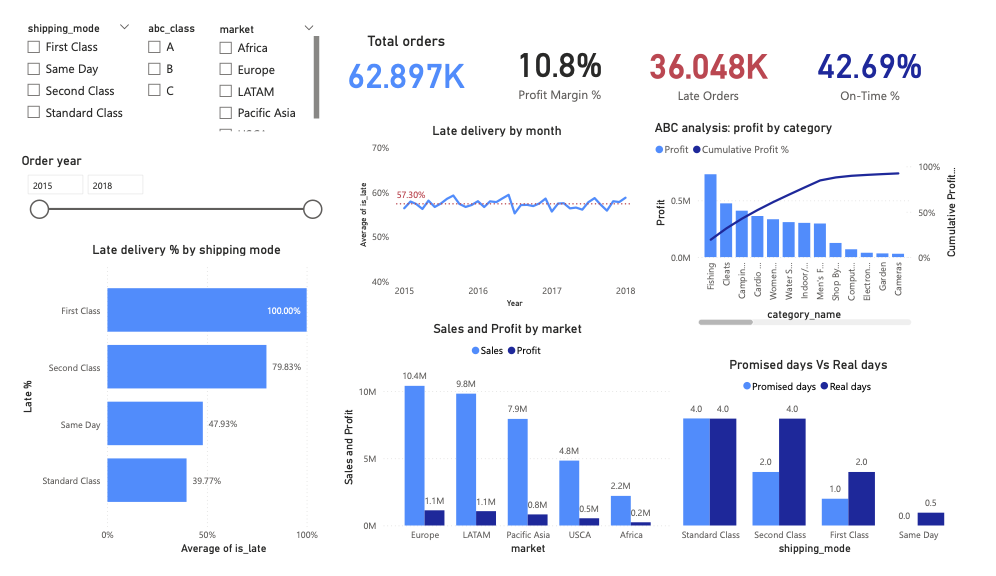

What the dashboard file says about the page in this screenshot:
{"tool":"powerbi","page":{"name":"Page 1","canvas":[1280,720],"ordinal":0},"visuals":[{"type":"clusteredBarChart","title":"Late delivery % by shipping mode","fields":{"Category":["dashboard_data.shipping_mode"],"Y":["Avg(dashboard_data.is_late)"]},"box":[0,297.6,450.3,422.1],"z":0},{"type":"card","title":"Total orders","fields":{"Values":["Count(dashboard_data.order_id)"]},"box":[414.3,19.5,207.2,84.6],"z":1000},{"type":"card","fields":{"Values":["dashboard_data.Late Orders"]},"box":[827.7,9.7,185.8,120.6],"z":2000},{"type":"card","fields":{"Values":["dashboard_data.On-Time %"]},"box":[1042.7,14.6,187.7,109.9],"z":3000},{"type":"clusteredColumnChart","title":"Promised days Vs Real days","fields":{"Category":["dashboard_data.shipping_mode"],"Y":["Avg(dashboard_data.days_for_shipment_scheduled)","Avg(dashboard_data.days_for_shipping_real)"]},"box":[827.7,451.3,452.3,268.4],"z":4000},{"type":"clusteredColumnChart","fields":{"Category":["dashboard_data.market"],"Y":["Sum(dashboard_data.sales)","Sum(dashboard_data.order_profit_per_order)"]},"box":[428,403.6,450.3,316.1],"z":5000},{"type":"card","fields":{"Values":["dashboard_data.Profit Margin %"]},"box":[640,19.5,165.3,97.3],"z":6000},{"type":"lineClusteredColumnComboChart","title":"ABC analysis: profit  by category","fields":{"Category":["dashboard_data.category_name"],"Y":["dashboard_data.Profit"],"Y2":["dashboard_data.Cumulative Profit %"]},"box":[844.3,136.2,412.4,279.1],"z":7000},{"type":"slicer","fields":{"Values":["dashboard_data.abc_class"]},"box":[161.5,0,123.5,124.5],"z":8000},{"type":"lineChart","title":"Late delivery by month","fields":{"Y":["Avg(dashboard_data.is_late)"],"Category":["dashboard_data.order_month.Variation.Date Hierarchy.Year","dashboard_data.order_month.Variation.Date Hierarchy.Quarter","dashboard_data.order_month.Variation.Date Hierarchy.Month","dashboard_data.order_month.Variation.Date Hierarchy.Day"]},"box":[450.3,139.1,377.4,250.9],"z":9000},{"type":"slicer","fields":{"Values":["dashboard_data.shipping_mode"]},"box":[0,0,161.5,157.6],"z":10000},{"type":"slicer","fields":{"Values":["dashboard_data.market"]},"box":[255.8,1,150.8,154.7],"z":11000},{"type":"slicer","title":"Order year","fields":{"Values":["dashboard_data.order_year"]},"box":[0,179.9,414.3,96.3],"z":12000}]}

Visuals, with their boxes in screenshot pixels (x1, y1, x2, y2), scaled from the page's 1280x720 canvas onto the 996x576 screenshot:
"Late delivery % by shipping mode" clusteredBarChart: crop(0, 238, 350, 575)
"Total orders" card: crop(322, 16, 484, 83)
card - dashboard_data.Late Orders: crop(644, 8, 789, 104)
card - dashboard_data.On-Time %: crop(811, 12, 957, 100)
"Promised days Vs Real days" clusteredColumnChart: crop(644, 361, 995, 575)
clusteredColumnChart - dashboard_data.market x Sum(dashboard_data.sales): crop(333, 323, 683, 575)
card - dashboard_data.Profit Margin %: crop(498, 16, 627, 93)
"ABC analysis: profit  by category" lineClusteredColumnComboChart: crop(657, 109, 978, 332)
slicer - dashboard_data.abc_class: crop(126, 0, 222, 100)
"Late delivery by month" lineChart: crop(350, 111, 644, 312)
slicer - dashboard_data.shipping_mode: crop(0, 0, 126, 126)
slicer - dashboard_data.market: crop(199, 1, 316, 125)
"Order year" slicer: crop(0, 144, 322, 221)
